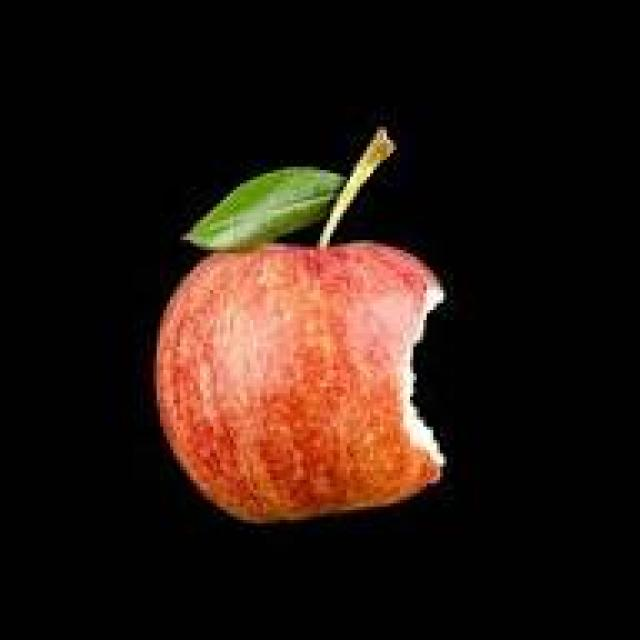Used Apple: (159, 241, 449, 523)
